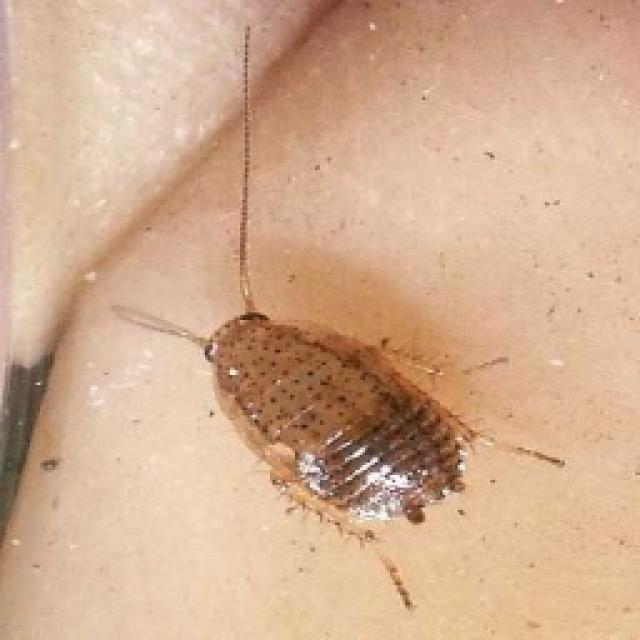cockroach: (135, 207, 526, 593)
